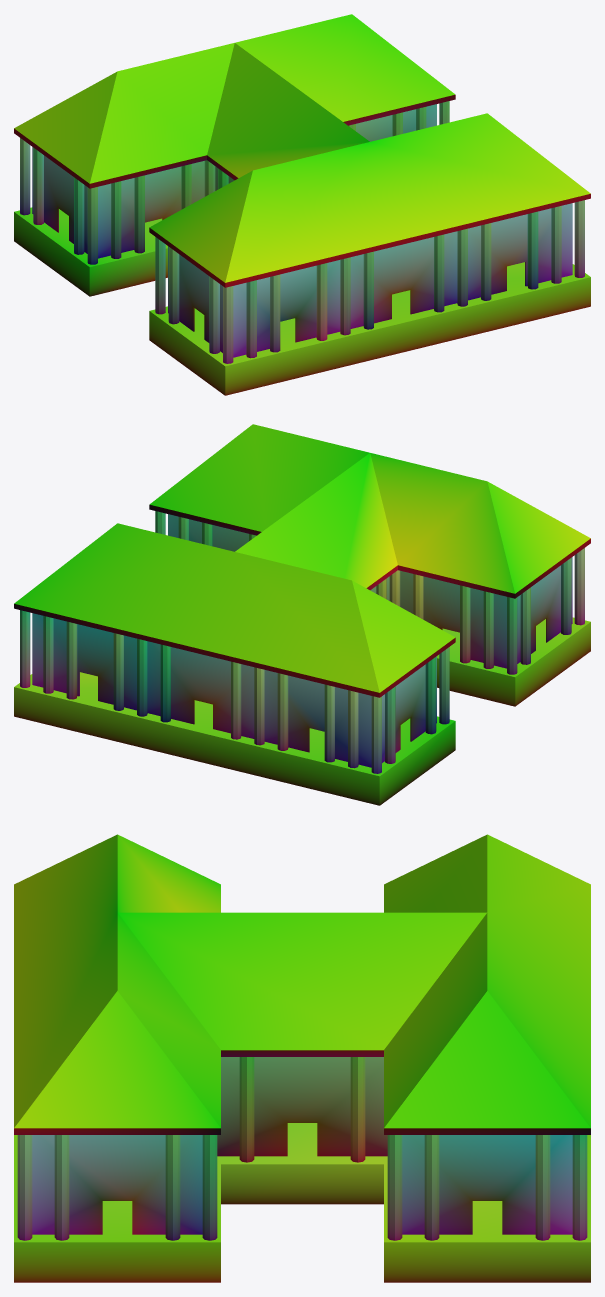
The model's file is MS_BuildingLarge_05_Col.fbx.
3 renders of one model, top to bottom at view 1: azimuth 30°, elevation 25°; view 2: azimuth 150°, elevation 25°; view 3: azimuth 270°, elevation 25°, orthographic. The views are drawn at different scales.
Visible parts, largest first — view 1: MS_BuildingLarge_05_Col; view 2: MS_BuildingLarge_05_Col; view 3: MS_BuildingLarge_05_Col.
Boxes of the visible parts, bbox=[...] form: MS_BuildingLarge_05_Col: bbox=[14, 14, 590, 395]; MS_BuildingLarge_05_Col: bbox=[14, 424, 590, 805]; MS_BuildingLarge_05_Col: bbox=[14, 834, 590, 1282].
Size of the model in its own units: 7800 by 3700 by 7800.
